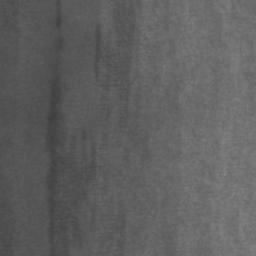Inclusion: (46, 77, 63, 154)
